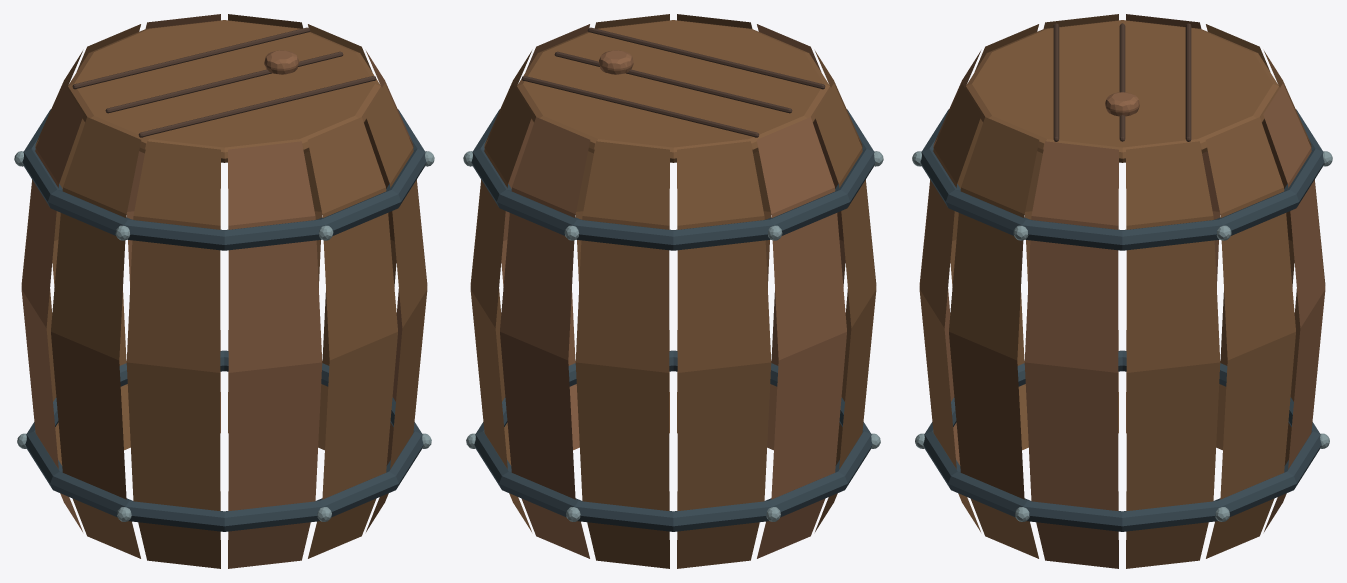
File: barrel.glb
The picture shows the model from 3 angles, left to right: view 1: azimuth 30°, elevation 25°; view 2: azimuth 150°, elevation 25°; view 3: azimuth 270°, elevation 25°; orthographic projection.
Parts seen in each view (by area): view 1: OakStave.029, OakStave.028, IronHoop.006, LidSeam.008, HoopRivet.026; view 2: OakStave.029, OakStave.028, IronHoop.006, LidSeam.008, HoopRivet.026; view 3: OakStave.029, OakStave.028, IronHoop.006, LidSeam.008, HoopRivet.026.
Boxes of the visible parts, x1,y1,x2,y2 form: OakStave.029: (21,14,427,568); OakStave.028: (21,14,427,568); IronHoop.006: (22,109,426,531); LidSeam.008: (72,27,376,137); HoopRivet.026: (14,151,434,521); OakStave.029: (470,14,876,568); OakStave.028: (500,24,846,558); IronHoop.006: (471,109,875,531); LidSeam.008: (521,27,825,137); HoopRivet.026: (463,151,883,521); OakStave.029: (919,14,1325,568); OakStave.028: (919,14,1325,568); IronHoop.006: (920,109,1324,531); LidSeam.008: (1053,23,1191,141); HoopRivet.026: (912,151,1332,521).
Bounding box in the file's own units: 0.8647 × 1.01 × 0.8911.
